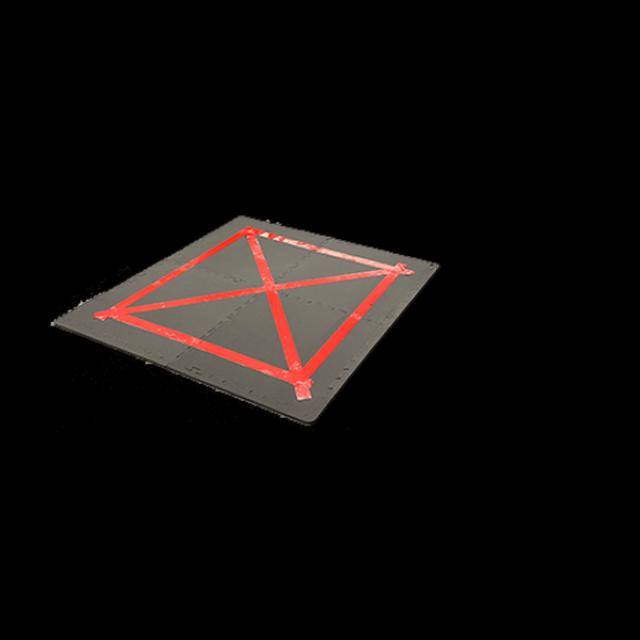landingPads: (46, 214, 463, 423)
